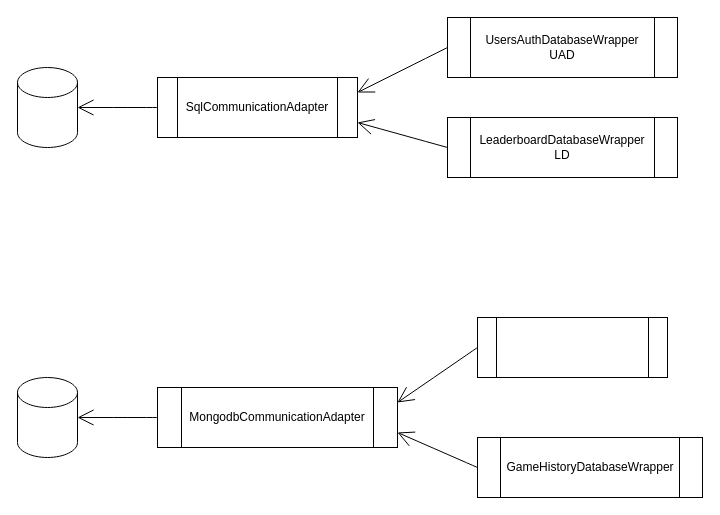
This 720x515 diagram has some shape labels left out. Each missing label, with the centre of its shape:
DatabaseLoggerWrapper: pixel 572 347
MongoDb Server: pixel 47 417
SQL Server: pixel 47 107
